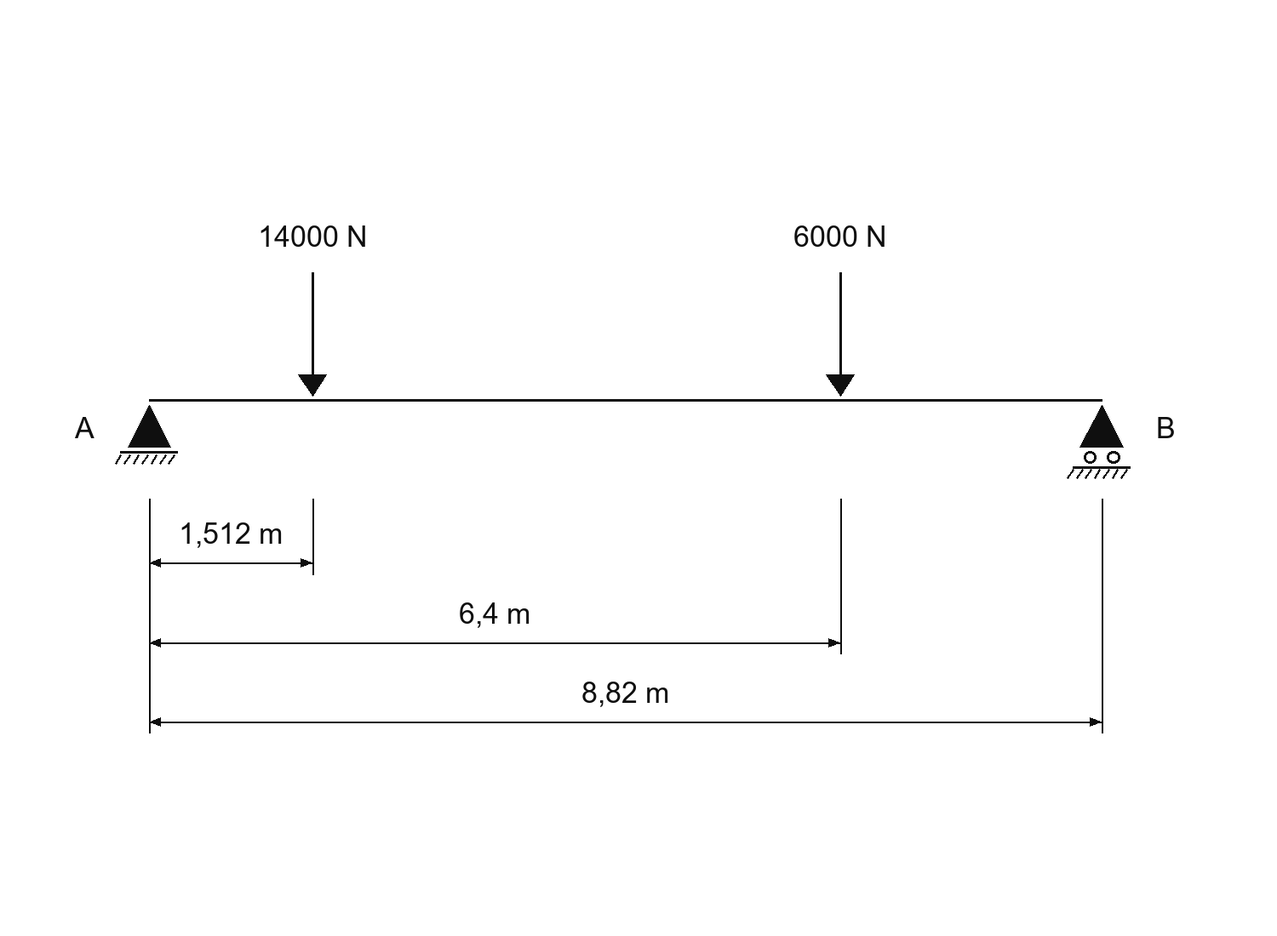pin_support: (115, 405, 178, 465)
point_load: (298, 272, 327, 397), (826, 272, 855, 397)
roller_support: (1067, 405, 1131, 479)
